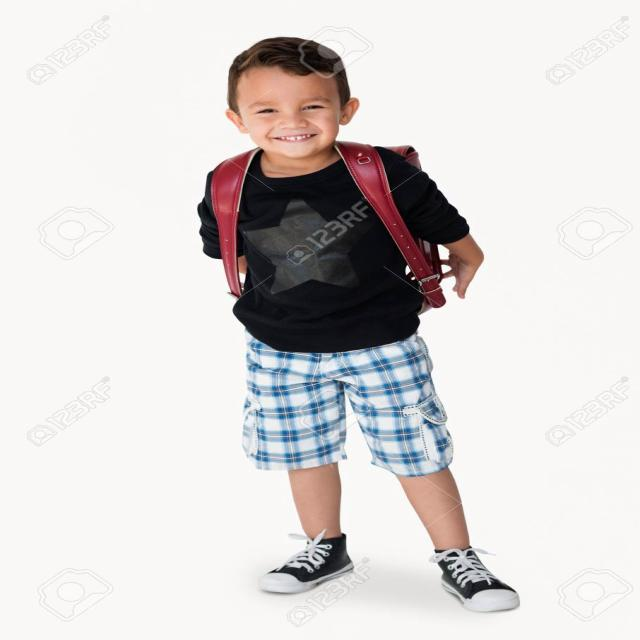child: (174, 34, 557, 624)
